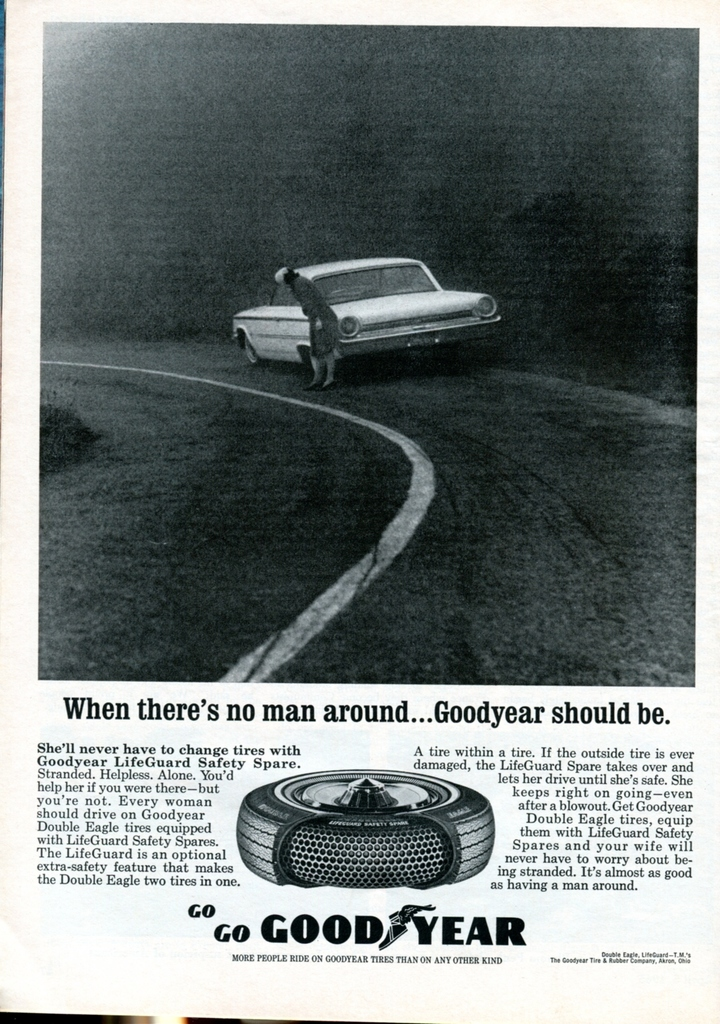Car: (229, 252, 506, 368)
